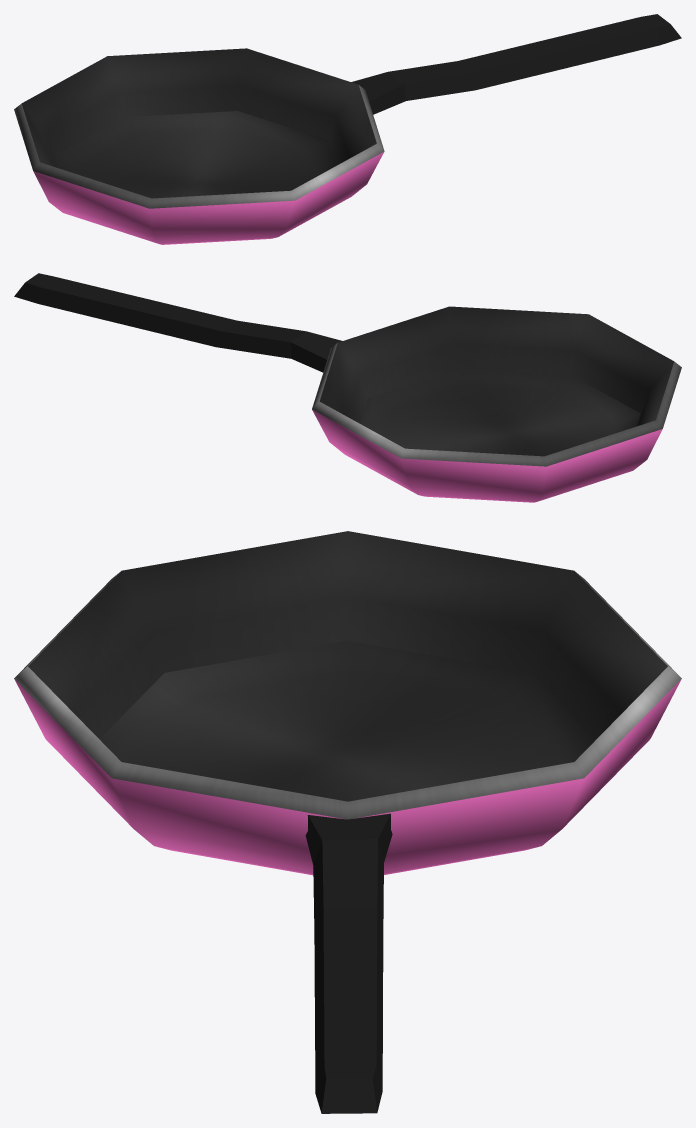
File: Frying_Pan_I.FBX
3 views of the same model, one above another, from view 1: azimuth 30°, elevation 25°; view 2: azimuth 150°, elevation 25°; view 3: azimuth 270°, elevation 25° (orthographic). The views are drawn at different scales.
Visible parts, largest first — view 1: Frying_Pan; view 2: Frying_Pan; view 3: Frying_Pan.
Part boxes in pixels (left/top/right/bottom): Frying_Pan: left=14, top=14, right=681, bottom=244; Frying_Pan: left=14, top=273, right=681, bottom=502; Frying_Pan: left=14, top=531, right=681, bottom=1113.
Bounding box in the file's own units: 141 × 13.23 × 73.2.
